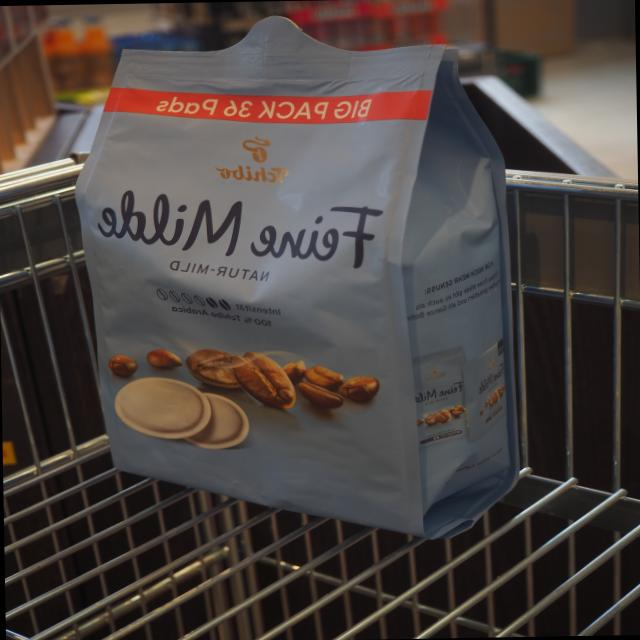FM 36 Pads: (64, 3, 528, 556)
